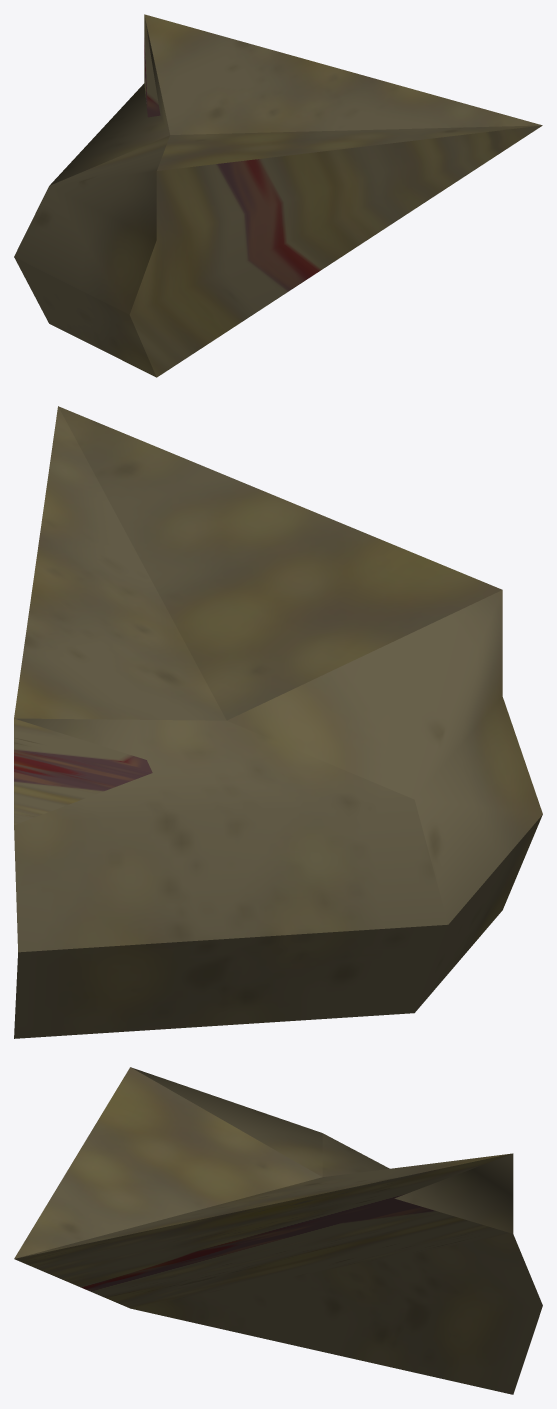
The model's file is ishi_02_10_10.fbx.
3 renders of one model, top to bottom at view 1: azimuth 30°, elevation 25°; view 2: azimuth 150°, elevation 25°; view 3: azimuth 270°, elevation 25°, orthographic. The views are drawn at different scales.
Parts seen in each view (by area): view 1: polySurface38; view 2: polySurface38; view 3: polySurface38.
Part boxes in pixels (x1,y1,x2,y2): polySurface38: (14,14,542,377); polySurface38: (14,406,542,1038); polySurface38: (14,1067,542,1394).
Size of the model in its own units: 7.62 by 3.85 by 7.65.
Materials: 1 (1 with a texture image).
